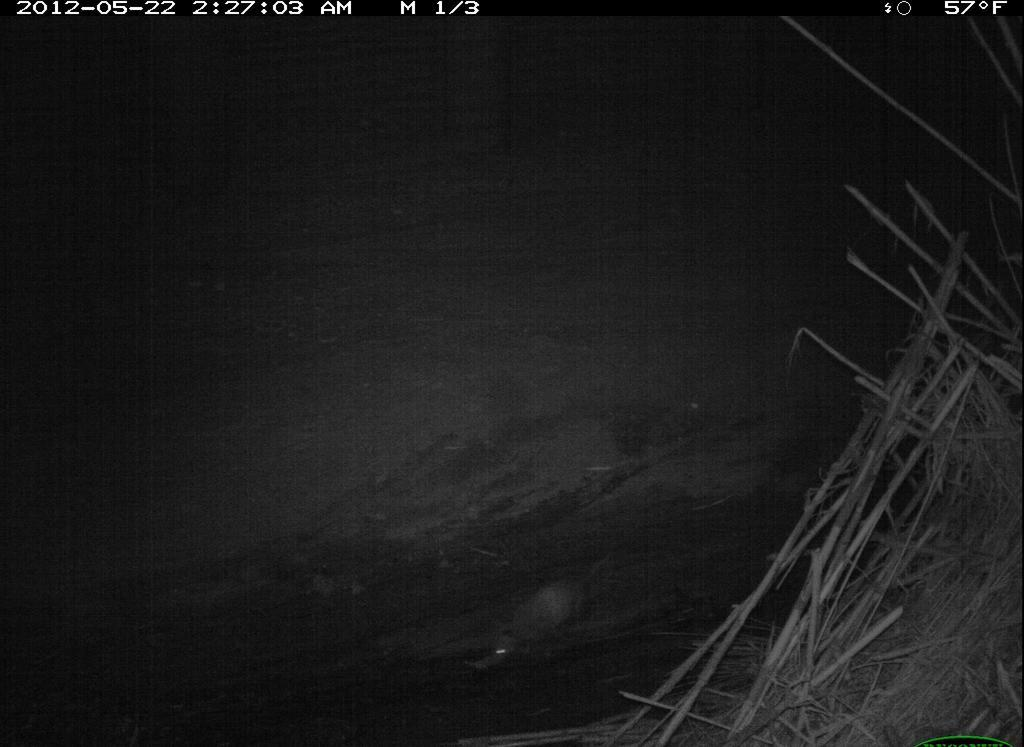opossum: (491, 553, 616, 673)
